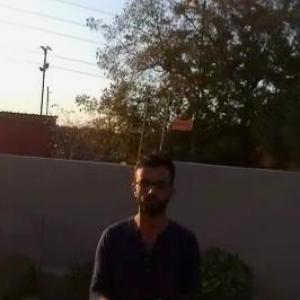follow: (74, 142, 209, 299)
